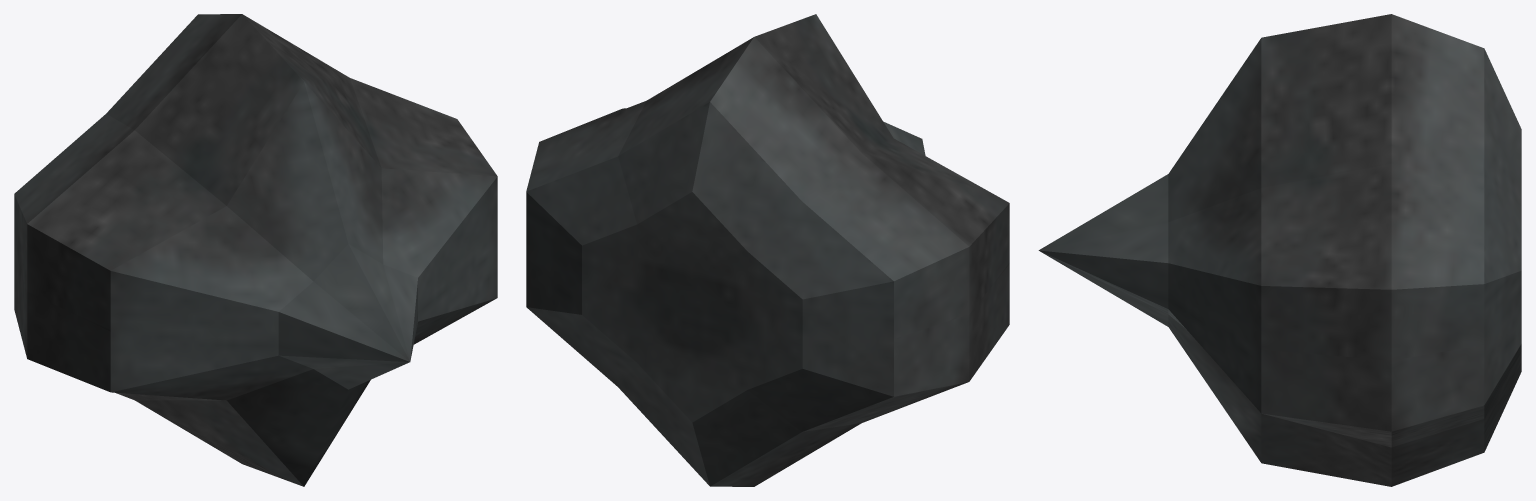
File: ironaxehead.obj
The picture shows the model from 3 angles, left to right: view 1: azimuth 30°, elevation 25°; view 2: azimuth 150°, elevation 25°; view 3: azimuth 270°, elevation 25°; orthographic projection. The views are drawn at different scales.
Parts seen in each view (by area): view 1: Base; view 2: Base; view 3: Base.
Part boxes in pixels (x1,y1,x2,y2): Base: [14, 14, 497, 486]; Base: [526, 14, 1009, 486]; Base: [1038, 14, 1521, 486].
Bounding box in the file's own units: 0.4493 × 0.4493 × 0.416.
